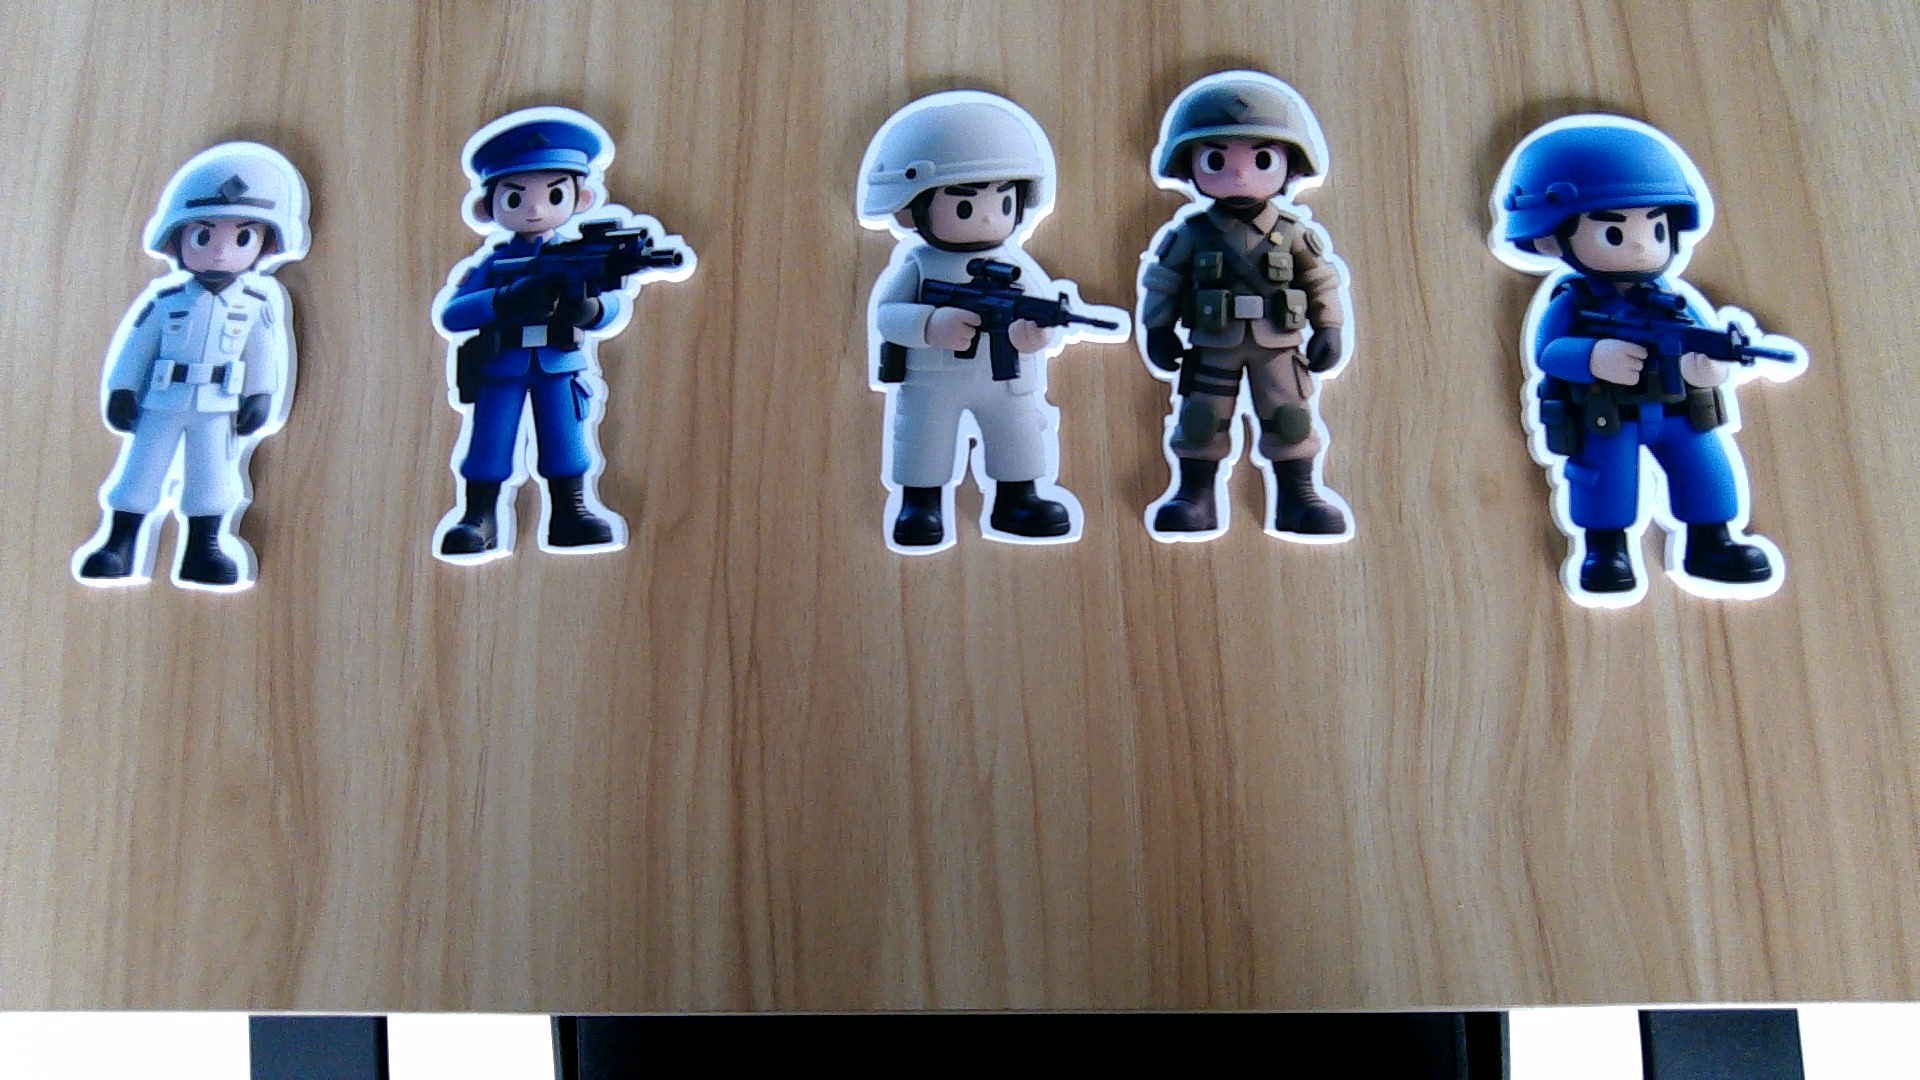人质: (860, 243, 1118, 558), (65, 282, 295, 591)
友军: (1133, 204, 1361, 549)
敌人2: (1511, 282, 1815, 609), (422, 233, 688, 564)
